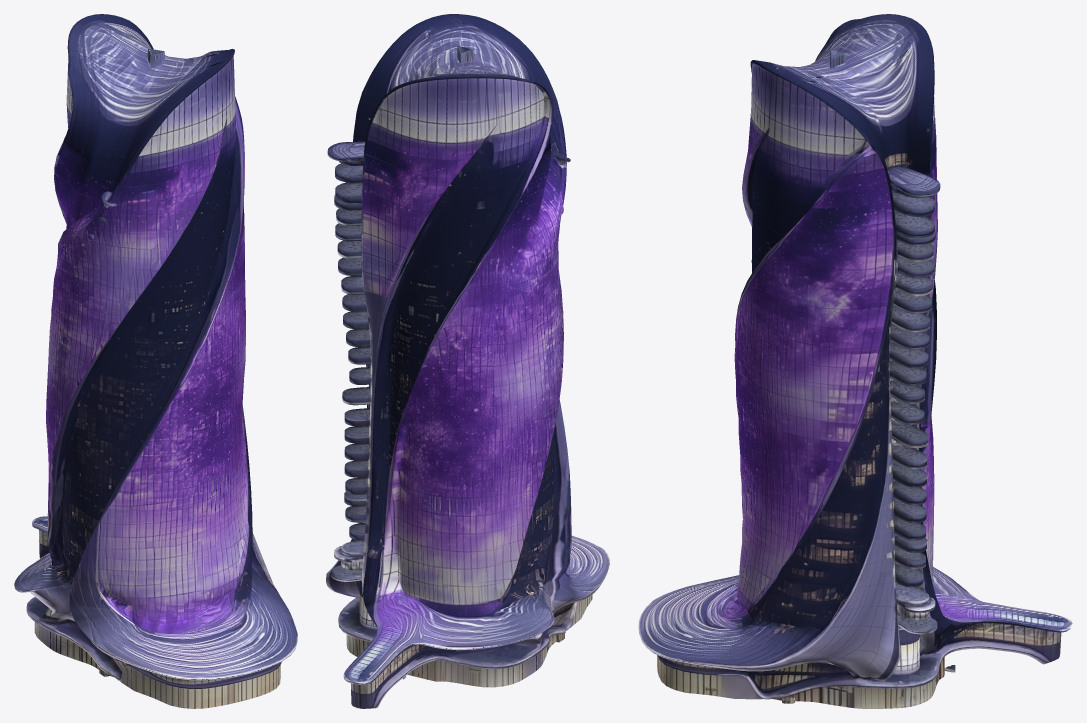
Rendered from town-purple-tower.1024.glb.
3 views of the same model, side by side, from view 1: azimuth 30°, elevation 25°; view 2: azimuth 150°, elevation 25°; view 3: azimuth 270°, elevation 25° (orthographic). The views are drawn at different scales.
Parts seen in each view (by area): view 1: tripo_node_9fe525cc-097a-4cf8-8e27-5bb911a54a9a; view 2: tripo_node_9fe525cc-097a-4cf8-8e27-5bb911a54a9a; view 3: tripo_node_9fe525cc-097a-4cf8-8e27-5bb911a54a9a.
Part boxes in pixels (x1,y1,x2,y2): tripo_node_9fe525cc-097a-4cf8-8e27-5bb911a54a9a: (14, 14, 297, 708); tripo_node_9fe525cc-097a-4cf8-8e27-5bb911a54a9a: (326, 14, 609, 708); tripo_node_9fe525cc-097a-4cf8-8e27-5bb911a54a9a: (638, 14, 1072, 708).
Size of the model in its own units: 0.3853 by 0.9995 by 0.6284.
1 material, 1 textured.
